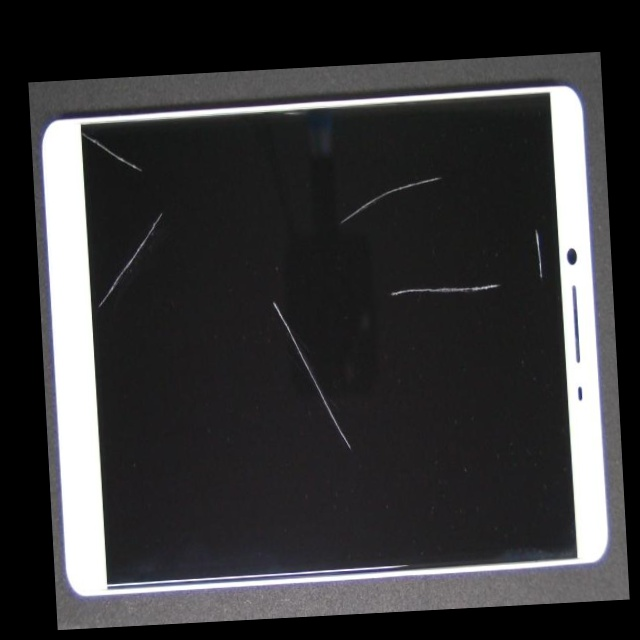scratch: (342, 142, 617, 374), (164, 143, 393, 405), (137, 84, 204, 293)
